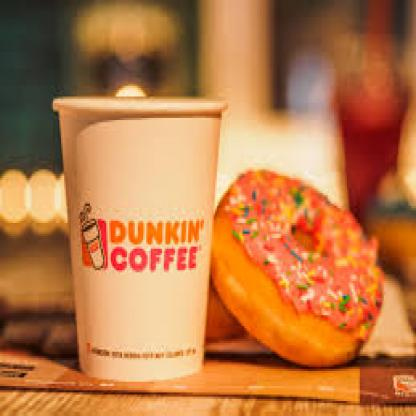Disposable tableware: (214, 152, 390, 382)
